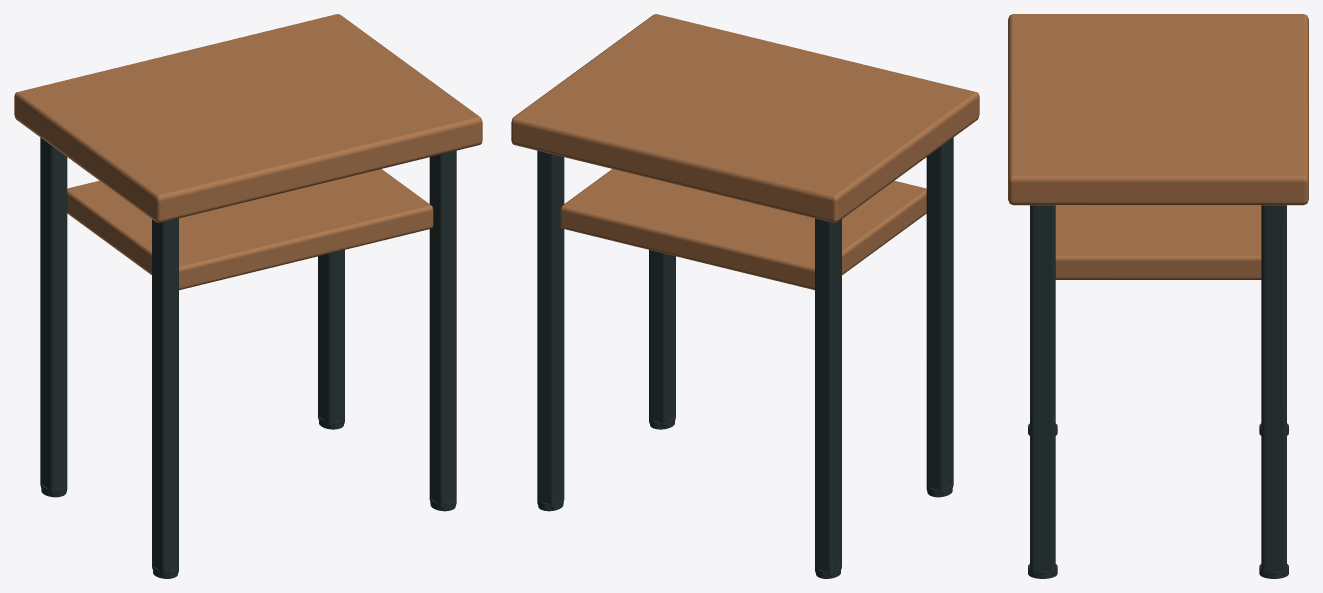
The model's file is wp-bureau-d-eleve.glb.
The picture shows the model from 3 angles, left to right: view 1: azimuth 30°, elevation 25°; view 2: azimuth 150°, elevation 25°; view 3: azimuth 270°, elevation 25°; orthographic projection. The views are drawn at different scales.
Parts seen in each view (by area): view 1: wp-bureau-d-eleve; view 2: wp-bureau-d-eleve; view 3: wp-bureau-d-eleve.
Part boxes in pixels (x1=…): wp-bureau-d-eleve: x1=14, y1=14, x2=482, y2=578; wp-bureau-d-eleve: x1=511, y1=14, x2=979, y2=578; wp-bureau-d-eleve: x1=1008, y1=14, x2=1308, y2=578.
Bounding box in the file's own units: 0.65 × 0.75 × 0.5.
